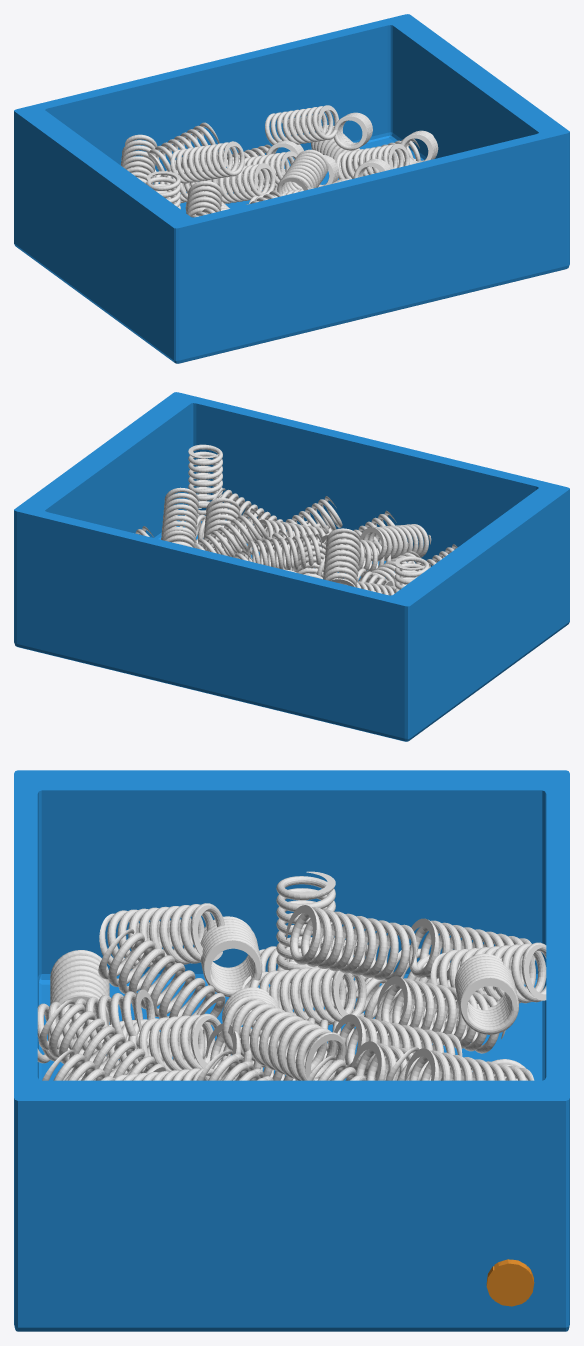
Rendered from Bin_with_spring_Blue.glb.
The picture shows the model from 3 angles, top to bottom: view 1: azimuth 30°, elevation 25°; view 2: azimuth 150°, elevation 25°; view 3: azimuth 270°, elevation 25°; orthographic projection. The views are drawn at different scales.
Visible parts, largest first — view 1: Bin, Spring.044, Spring.029, Spring.019, Spring.042, Spring.012, Spring.040, Spring.043, Spring.035, Spring.036, Spring.020, Spring.032 (+2 smaller); view 2: Bin, Spring.042, Spring.044, Spring, Spring.025, Spring.037, Spring.011, Spring.003, Spring.008, Spring.033, Spring.034, Spring.032 (+5 smaller); view 3: Bin, Spring.044, Spring.042, Spring.045, Spring.041, Spring.023, Spring.035, Spring.009, Spring.034, Spring.043, Spring.040, Spring.025 (+15 smaller).
Boxes of the visible parts, x1,y1,x2,y2 form: Bin: (14, 14, 569, 363); Spring.044: (170, 141, 244, 183); Spring.029: (265, 105, 338, 144); Spring.019: (204, 163, 275, 203); Spring.042: (277, 149, 328, 195); Spring.012: (335, 143, 409, 179); Spring.040: (144, 122, 219, 181); Spring.043: (121, 134, 157, 184); Spring.035: (186, 181, 222, 216); Spring.036: (232, 151, 297, 192); Spring.020: (333, 112, 372, 150); Spring.032: (146, 171, 180, 209); Bin: (14, 392, 569, 741); Spring.042: (247, 533, 322, 570); Spring.044: (323, 528, 360, 587); Spring: (188, 444, 222, 521); Spring.025: (360, 524, 431, 561); Spring.037: (194, 508, 267, 557); Spring.011: (161, 487, 198, 543); Spring.003: (203, 498, 240, 555); Spring.008: (273, 496, 342, 544); Spring.033: (252, 519, 327, 553); Spring.034: (319, 535, 391, 572); Spring.032: (394, 556, 429, 592); Bin: (14, 770, 569, 1331); Spring.044: (286, 905, 416, 981); Spring.042: (222, 997, 345, 1080); Spring.045: (98, 929, 225, 1031); Spring.041: (99, 903, 224, 969); Spring.023: (377, 976, 505, 1053); Spring.035: (242, 967, 366, 1027); Spring.009: (38, 999, 165, 1077); Spring.034: (101, 1013, 225, 1074); Spring.043: (430, 942, 546, 1004); Spring.040: (454, 953, 518, 1034); Spring.025: (37, 989, 155, 1063).
Bounding box in the file's own units: 0.399 × 0.13 × 0.28.
